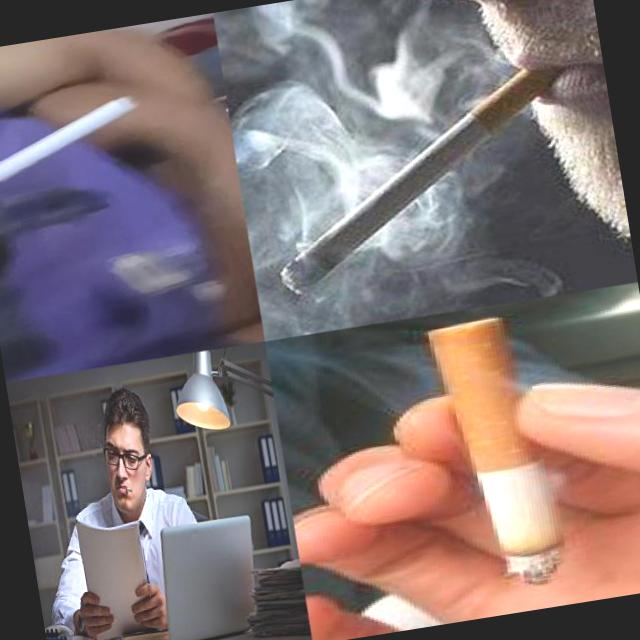smoke: (252, 61, 585, 300), (422, 305, 586, 597), (0, 96, 146, 211), (122, 482, 136, 496)
